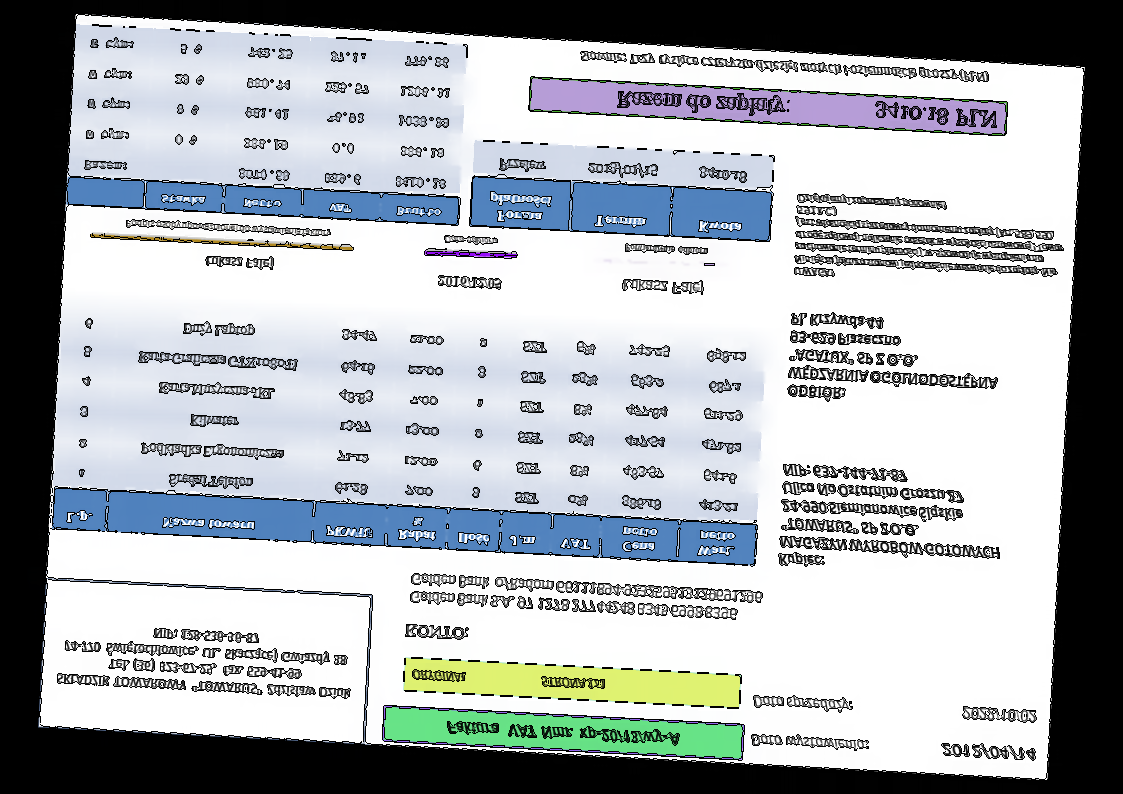Table: (50, 303, 768, 567), (66, 25, 468, 225), (468, 139, 777, 244)
TextBox: (792, 192, 1068, 291), (777, 463, 1007, 580), (55, 620, 357, 702), (786, 310, 1001, 412), (408, 571, 766, 624), (615, 87, 1000, 130), (579, 49, 993, 85), (442, 716, 682, 749), (123, 215, 333, 241), (409, 668, 608, 692), (750, 731, 871, 756), (752, 692, 856, 715), (939, 742, 1037, 764), (620, 274, 704, 297), (960, 705, 1039, 725), (435, 271, 503, 293), (203, 252, 276, 272), (404, 623, 470, 643), (624, 243, 709, 258), (442, 232, 499, 249)
